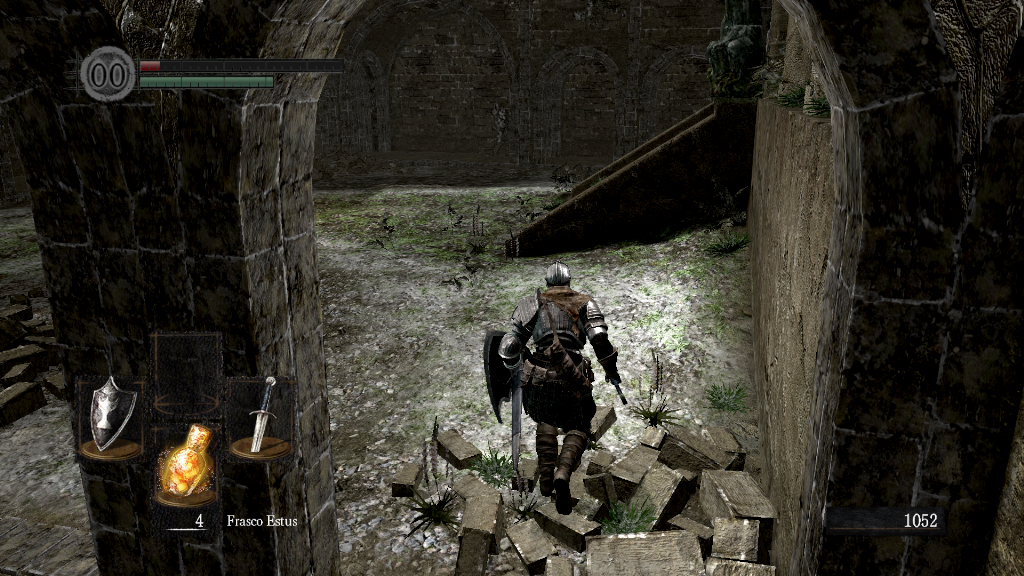health: (138, 58, 343, 71)
humanity: (80, 45, 136, 102)
player: (483, 262, 627, 517)
souls: (825, 506, 945, 536)
stamina: (138, 74, 274, 88)
